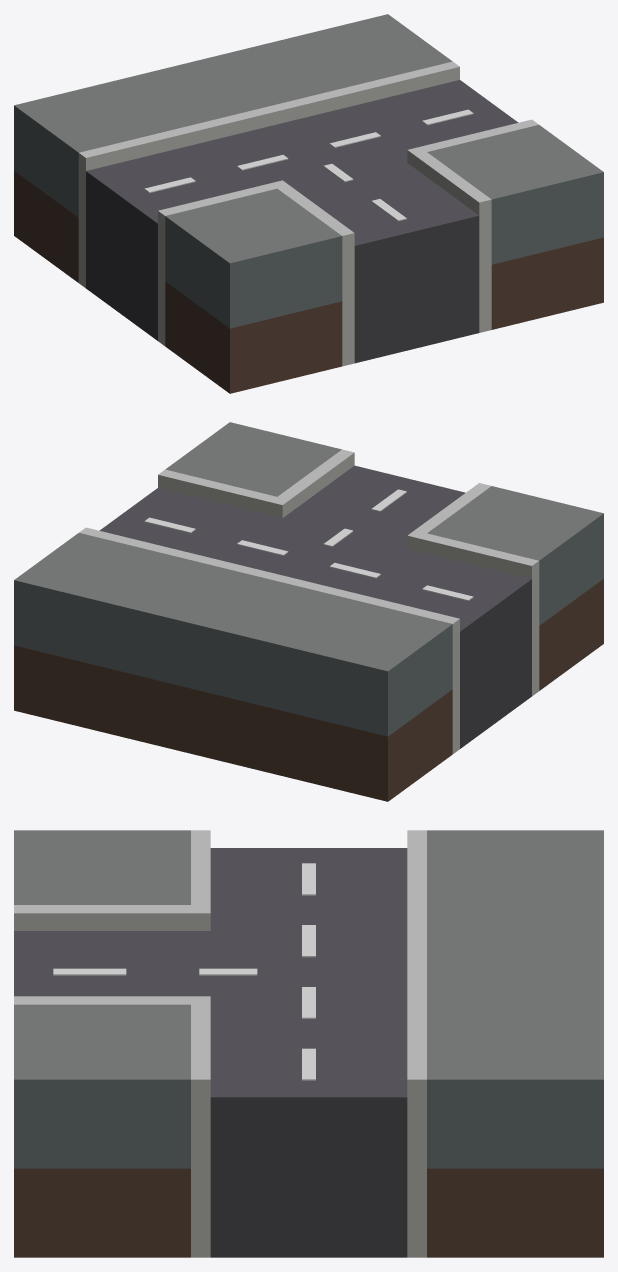
The model's file is TB_CITY_Road_K.FBX.
3 renders of one model, top to bottom at view 1: azimuth 30°, elevation 25°; view 2: azimuth 150°, elevation 25°; view 3: azimuth 270°, elevation 25°, orthographic. The views are drawn at different scales.
Parts seen in each view (by area): view 1: TB_CITY_Road_K; view 2: TB_CITY_Road_K; view 3: TB_CITY_Road_K.
Part boxes in pixels (bbox=[...]): TB_CITY_Road_K: bbox=[14, 14, 603, 393]; TB_CITY_Road_K: bbox=[14, 422, 603, 801]; TB_CITY_Road_K: bbox=[14, 830, 603, 1257].
Size of the model in its own units: 30 by 10 by 30.
